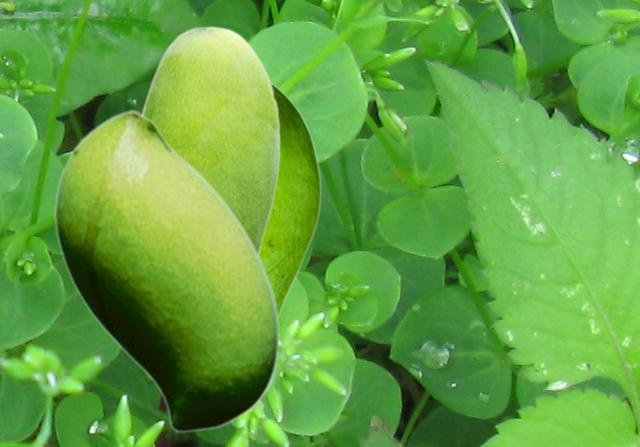green_mango: (53, 108, 278, 432), (139, 25, 280, 254), (261, 83, 321, 323)
